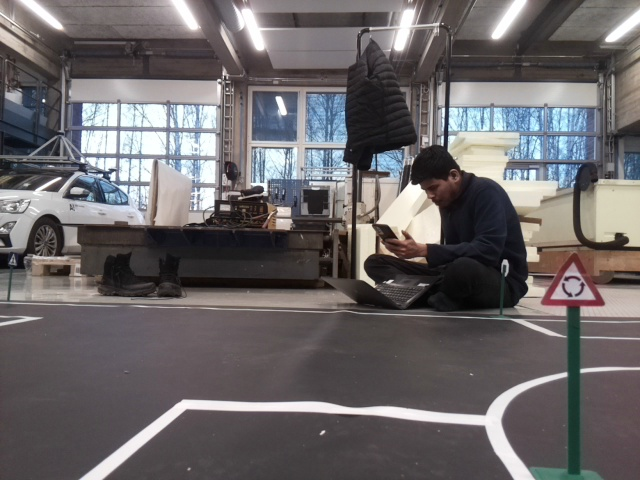Roundabout: (537, 250, 606, 306)
